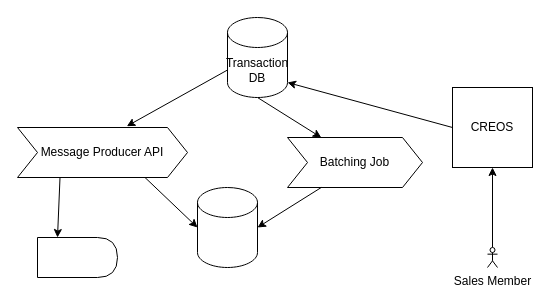
The diagram is 550 pixels wide and 306 high, and some of its shapes have lost their labels. The shapes that lost their labels are listed below. From the top down, each one's centre as x and y in pixels, then its label:
At point (227, 227): "Audit DB".
At point (77, 257): "Kafka Queue".
